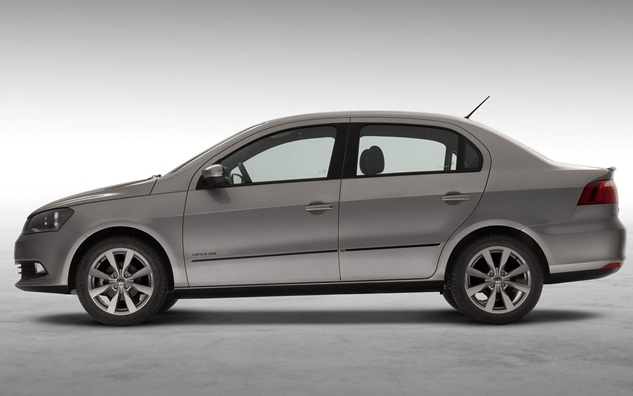Carro: (15, 104, 633, 326)
